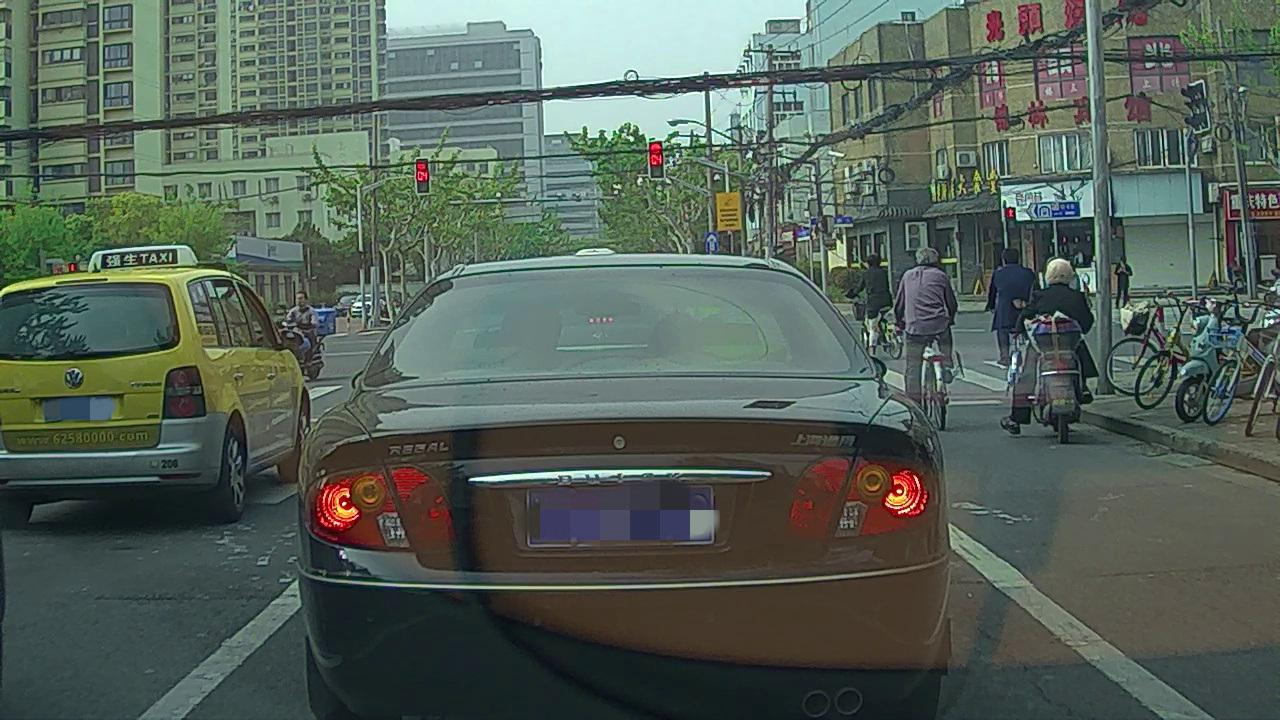traffic_light: (647, 143, 664, 179), (416, 157, 430, 193)
